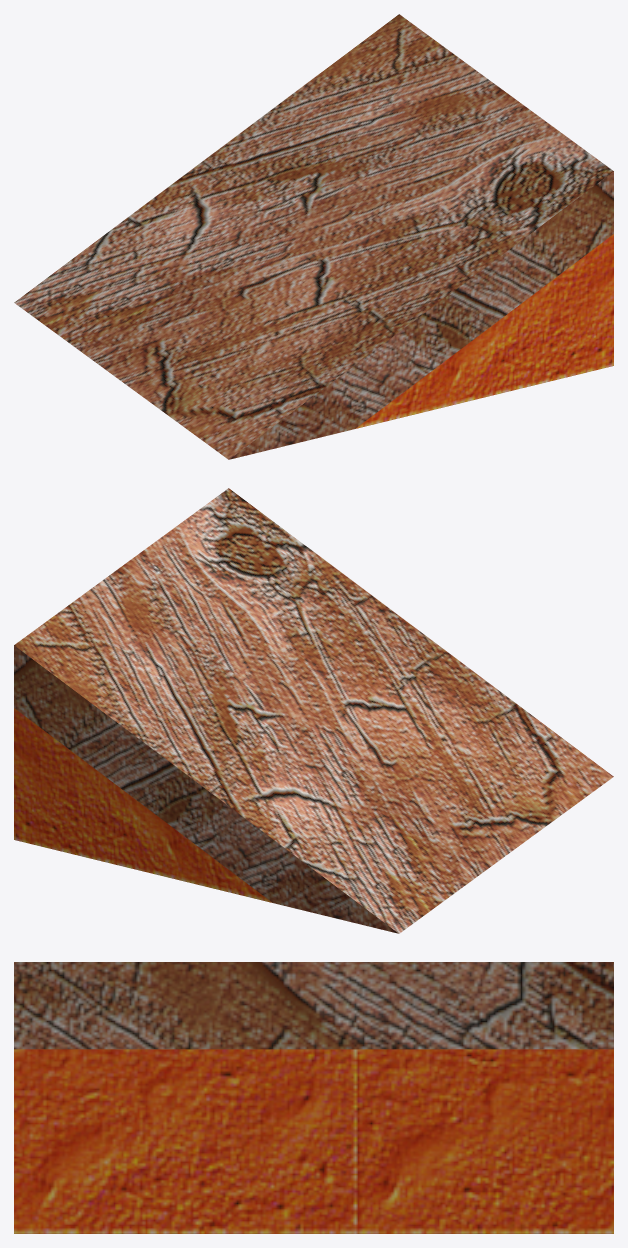
Rendered from ramp.glb.
3 views of the same model, one above another, from view 1: azimuth 30°, elevation 25°; view 2: azimuth 150°, elevation 25°; view 3: azimuth 270°, elevation 25° (orthographic). The views are drawn at different scales.
Parts seen in each view (by area): view 1: ramp; view 2: ramp; view 3: ramp.
Boxes of the visible parts, x1,y1,x2,y2 form: ramp: [14, 14, 613, 459]; ramp: [14, 488, 613, 933]; ramp: [14, 962, 613, 1233].
Bounding box in the file's own units: 14.5 × 7 × 14.
2 materials, 2 textured.
